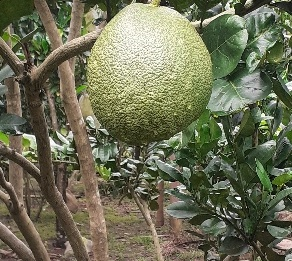Buoi: (86, 1, 225, 157)
